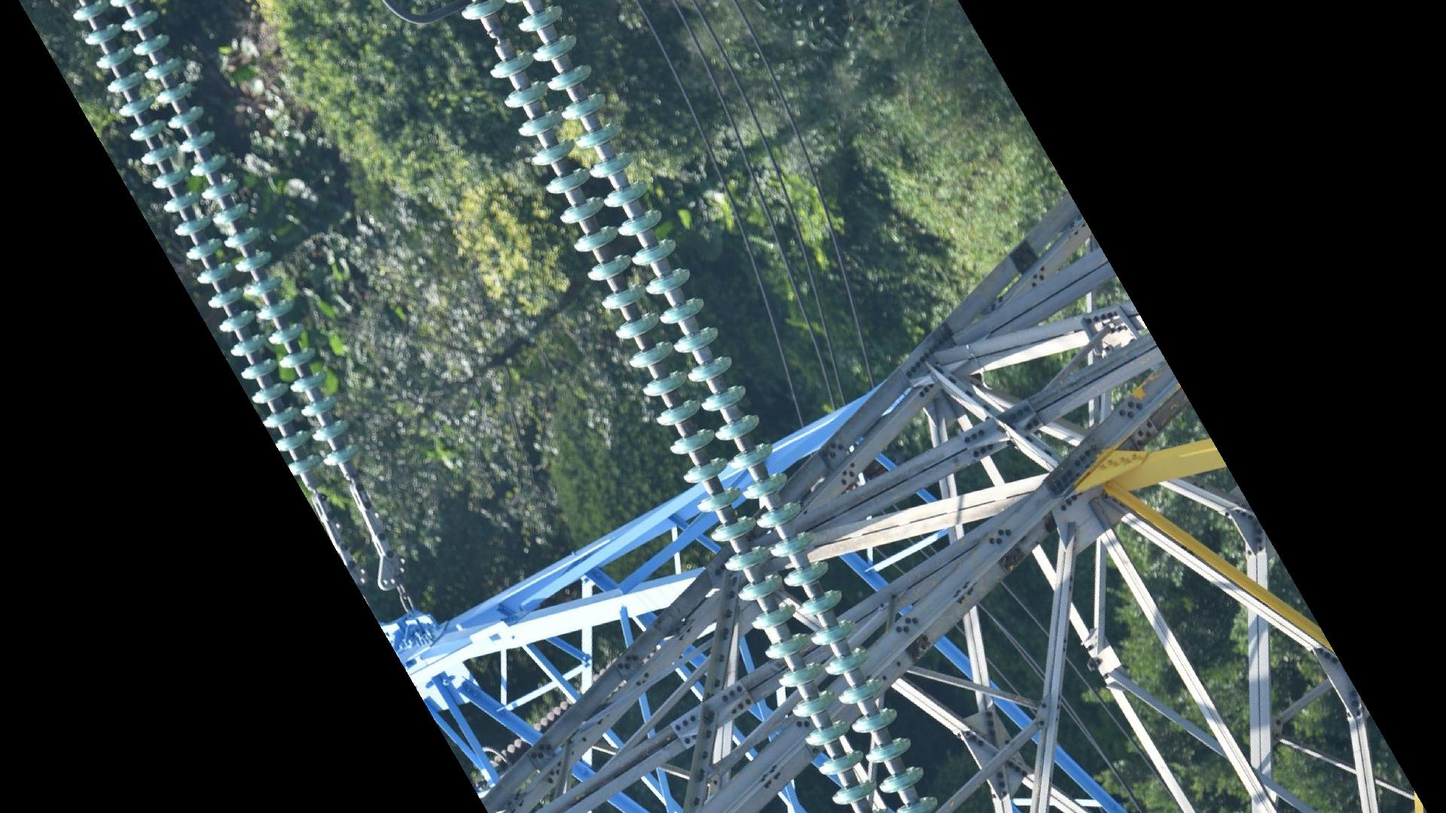insulator: (449, 1, 943, 813), (69, 1, 366, 488)
insulator_stringdrop: (457, 1, 537, 82)
